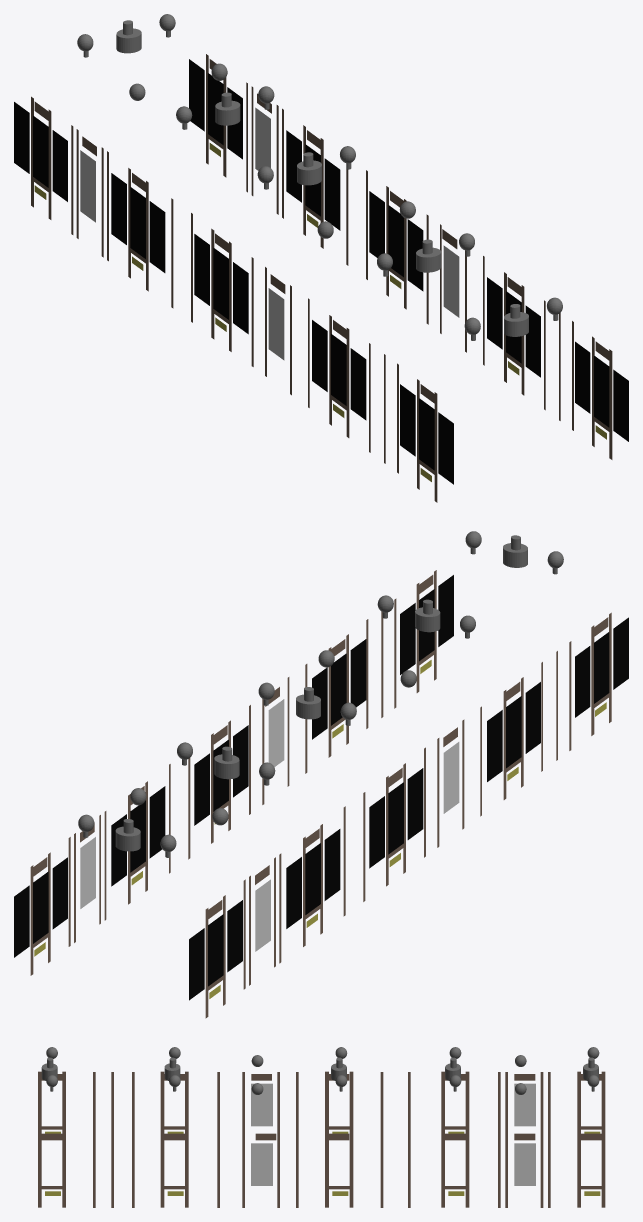
The model's file is lnwr-45ft-non-cor-lav-tricomposite-windows.dae.
3 views of the same model, one above another, from view 1: azimuth 30°, elevation 25°; view 2: azimuth 150°, elevation 25°; view 3: azimuth 270°, elevation 25° (orthographic). The views are drawn at different scales.
Visible parts, largest first — view 1: Plane_801, Plane_822, Plane_826, Plane_841, Plane_870, Plane_049, Plane_815, Plane_045, Plane_050, Plane_051, Plane_054, Plane_796 (+20 smaller); view 2: Plane_819, Plane_822, Plane_841, Plane_797, Plane_801, Plane_870, Plane_050, Plane_805, Plane_815, Plane_818, Plane_827, Plane_830 (+20 smaller); view 3: Plane_801, Plane_866, Plane_822, Plane_845, Plane_794, Plane_809, Plane_858, Plane_875, Plane_044, Plane_046, Plane_792, Plane_807 (+14 smaller).
Part boxes in pixels (x1,y1,x2,y2): Plane_801: [443, 245, 459, 317]; Plane_822: [268, 288, 284, 360]; Plane_826: [350, 348, 366, 420]; Plane_841: [149, 201, 165, 272]; Plane_870: [324, 158, 340, 230]; Plane_049: [613, 369, 628, 441]; Plane_815: [213, 247, 228, 319]; Plane_045: [594, 355, 609, 427]; Plane_050: [438, 412, 453, 484]; Plane_051: [400, 384, 415, 456]; Plane_054: [419, 398, 434, 470]; Plane_796: [487, 277, 502, 349]; Plane_819: [407, 768, 423, 839]; Plane_822: [443, 742, 459, 813]; Plane_841: [324, 829, 340, 900]; Plane_797: [350, 639, 366, 707]; Plane_801: [268, 699, 284, 766]; Plane_870: [149, 786, 165, 858]; Plane_050: [613, 617, 628, 689]; Plane_805: [194, 753, 209, 825]; Plane_815: [388, 782, 403, 854]; Plane_818: [369, 796, 384, 868]; Plane_827: [487, 710, 502, 781]; Plane_830: [506, 696, 521, 768]; Plane_801: [251, 1143, 272, 1185]; Plane_866: [514, 1143, 535, 1185]; Plane_822: [251, 1083, 272, 1126]; Plane_845: [514, 1083, 535, 1126]; Plane_794: [160, 1131, 164, 1207]; Plane_809: [349, 1131, 353, 1207]; Plane_858: [601, 1131, 605, 1207]; Plane_875: [465, 1131, 469, 1207]; Plane_044: [62, 1131, 65, 1207]; Plane_046: [38, 1131, 41, 1207]; Plane_792: [185, 1131, 188, 1207]; Plane_807: [325, 1131, 328, 1207].
Size of the model in its own units: 1.75 by 7.56 by 1.61.
